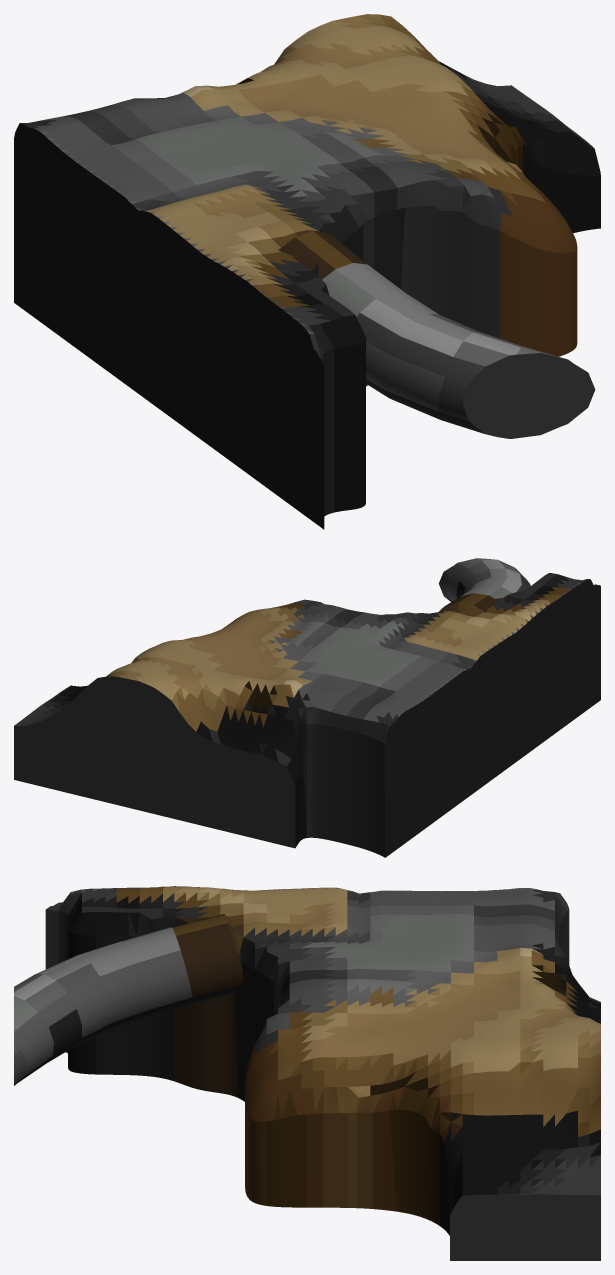
File: tusk_boss_88.glb
3 views of the same model, one above another, from view 1: azimuth 30°, elevation 25°; view 2: azimuth 150°, elevation 25°; view 3: azimuth 270°, elevation 25° (orthographic). The views are drawn at different scales.
Visible parts, largest first — view 1: tusk_boss_88_plates; view 2: tusk_boss_88_plates; view 3: tusk_boss_88_plates.
Boxes of the visible parts, x1,y1,x2,y2 form: tusk_boss_88_plates: (14,14,600,529); tusk_boss_88_plates: (14,558,600,857); tusk_boss_88_plates: (14,886,600,1260).
Size of the model in its own units: 24 by 8.71 by 28.
